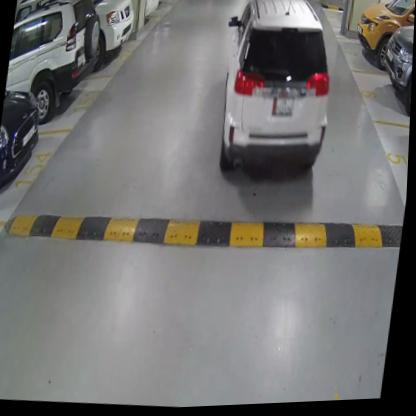np: (272, 97, 296, 121)
